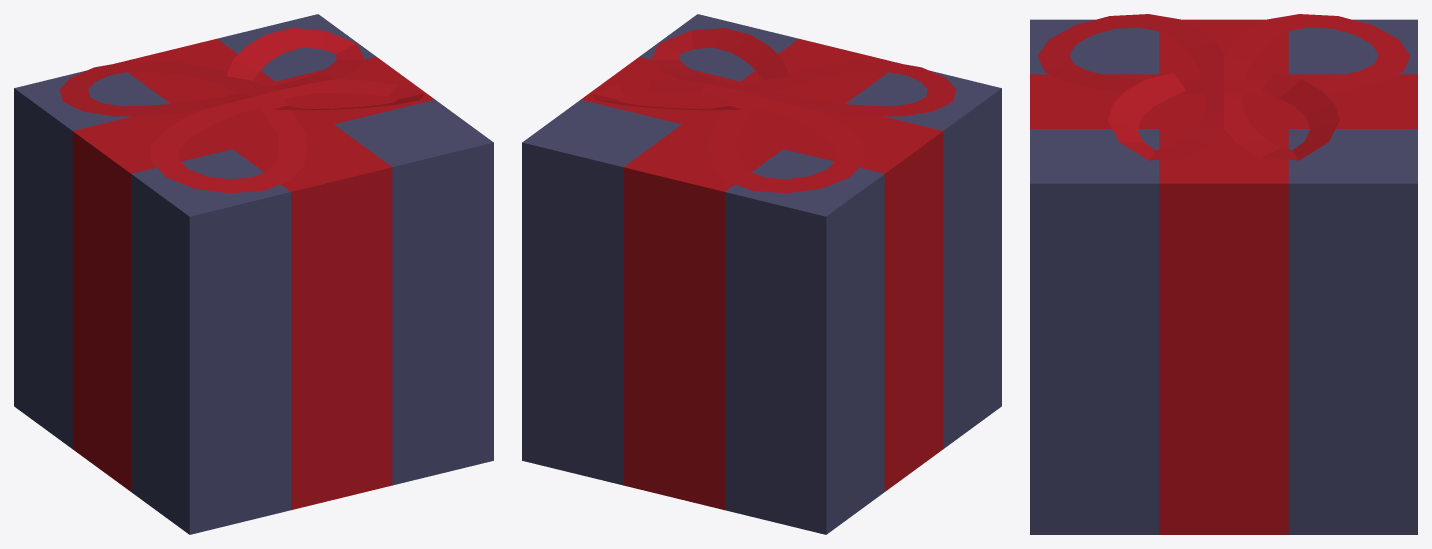
File: Presents.fbx
3 views of the same model, side by side, from view 1: azimuth 30°, elevation 25°; view 2: azimuth 150°, elevation 25°; view 3: azimuth 270°, elevation 25° (orthographic). The views are drawn at different scales.
Visible parts, largest first — view 1: Present; view 2: Present; view 3: Present.
Boxes of the visible parts, x1=… form: Present: x1=14, y1=14, x2=493, y2=534; Present: x1=522, y1=14, x2=1001, y2=534; Present: x1=1030, y1=14, x2=1417, y2=534.
Bounding box in the file's own units: 30 × 30 × 32.74.
